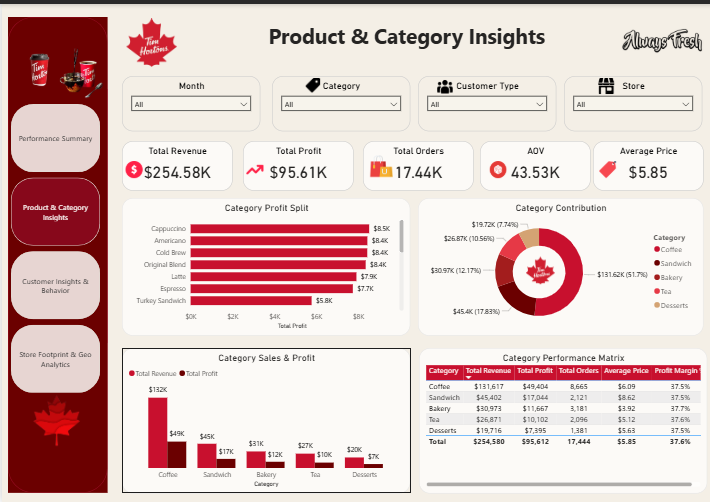

What the dashboard file says about the page in this screenshot:
{"tool":"powerbi","page":{"name":"Product & Category Insights","canvas":[1280,900],"ordinal":1},"visuals":[{"type":"shape","box":[10,24.3,180,860],"z":0},{"type":"image","box":[206.7,24.6,128.7,88.2],"z":1000},{"type":"image","box":[1118.6,20,148.6,92.9],"z":2000},{"type":"image","box":[10,67.1,114.3,108.6],"z":3000},{"type":"image","box":[16,47.9,174.2,165.5],"z":4000},{"type":"image","box":[47.1,680,104.3,145.7],"z":5000},{"type":"textbox","box":[360,27.5,733,68],"z":6000},{"type":"slicer","title":"Category","fields":{"Values":["DimProduct.Category"]},"box":[488.7,130.1,250,100],"z":7000},{"type":"image","box":[534.9,134.5,53.5,26],"z":8000},{"type":"slicer","title":"Customer Type","fields":{"Values":["FactSales.CustomerType"]},"box":[751.8,130.1,250,100],"z":9000},{"type":"slicer","title":"Store","fields":{"Values":["DimStore.Store"]},"box":[1014.9,130.1,250,100],"z":10000},{"type":"image","box":[1074.2,134.5,36.1,28.9],"z":11000},{"type":"card","title":"Total Revenue","fields":{"Values":["_Measures.Total Revenue"]},"box":[216.9,247.2,199.5,89.6],"z":12000},{"type":"card","title":"Total Profit","fields":{"Values":["_Measures.Total Profit"]},"box":[435.2,247.2,199.5,89.6],"z":13000},{"type":"image","box":[221.5,284.6,32.3,30.8],"z":14000},{"type":"image","box":[435.4,284.6,43.1,30.8],"z":15000},{"type":"card","title":"Total Orders","fields":{"Values":["_Measures.Total Orders"]},"box":[652,247.2,199.5,89.6],"z":16000},{"type":"image","box":[663.1,270.8,44.6,44.6],"z":17000},{"type":"card","title":"AOV","fields":{"Values":["_Measures.Total Units Sold"]},"box":[863.1,247.2,199.5,89.6],"z":18000},{"type":"card","title":"Average Price","fields":{"Values":["_Measures.Average Price"]},"box":[1068.4,247.2,199.5,89.6],"z":19000},{"type":"clusteredBarChart","title":"Category Profit Split","fields":{"Category":["DimProduct.Product"],"Y":["_Measures.Total Profit"]},"box":[217.1,350,521.4,248.6],"z":20000},{"type":"donutChart","title":"Category Contribution","fields":{"Category":["DimProduct.Category"],"Y":["_Measures.Total Revenue"]},"box":[751.4,350,515.7,248.6],"z":21000},{"type":"clusteredColumnChart","title":"Category Sales & Profit","fields":{"Category":["DimProduct.Category"],"Y":["_Measures.Total Revenue","_Measures.Total Profit"]},"box":[217.1,621.4,521.4,262.9],"z":22000},{"type":"tableEx","title":"Category Performance Matrix","fields":{"Values":["DimProduct.Category","_Measures.Total Revenue","_Measures.Total Profit","_Measures.Total Orders","_Measures.Average Price","_Measures.Profit Margin %"]},"box":[752.9,621.4,521.4,262.9],"z":23000},{"type":"image","box":[876.9,284.6,40,30.8],"z":24000},{"type":"image","box":[783.1,135.4,35.4,27.7],"z":25000},{"type":"image","box":[1078.5,284.6,30.8,30.8],"z":26000},{"type":"image","box":[946.7,455,51.7,51.7],"z":27000},{"type":"slicer","title":"Month","fields":{"Values":["DimDate.Month"]},"box":[216.7,130,250,100],"z":28000},{"type":"pageNavigator","box":[16.7,180,161.7,523.3],"z":28001}]}

Visuals, with their boxes on the page's 1280x900 design canvas (x1, y1, x2, y2). These are canvas units, not pixel positions in the 710x502 screenshot, which may show the page scaled, cropped or inside an application window:
shape: 10:24:190:884
image: 207:25:335:113
image: 1119:20:1267:113
image: 10:67:124:176
image: 16:48:190:213
image: 47:680:151:826
textbox: 360:28:1093:96
"Category" slicer: 489:130:739:230
image: 535:134:588:160
"Customer Type" slicer: 752:130:1002:230
"Store" slicer: 1015:130:1265:230
image: 1074:134:1110:163
"Total Revenue" card: 217:247:416:337
"Total Profit" card: 435:247:635:337
image: 222:285:254:315
image: 435:285:478:315
"Total Orders" card: 652:247:852:337
image: 663:271:708:315
"AOV" card: 863:247:1063:337
"Average Price" card: 1068:247:1268:337
"Category Profit Split" clusteredBarChart: 217:350:738:599
"Category Contribution" donutChart: 751:350:1267:599
"Category Sales & Profit" clusteredColumnChart: 217:621:738:884
"Category Performance Matrix" tableEx: 753:621:1274:884
image: 877:285:917:315
image: 783:135:818:163
image: 1078:285:1109:315
image: 947:455:998:507
"Month" slicer: 217:130:467:230
pageNavigator: 17:180:178:703
